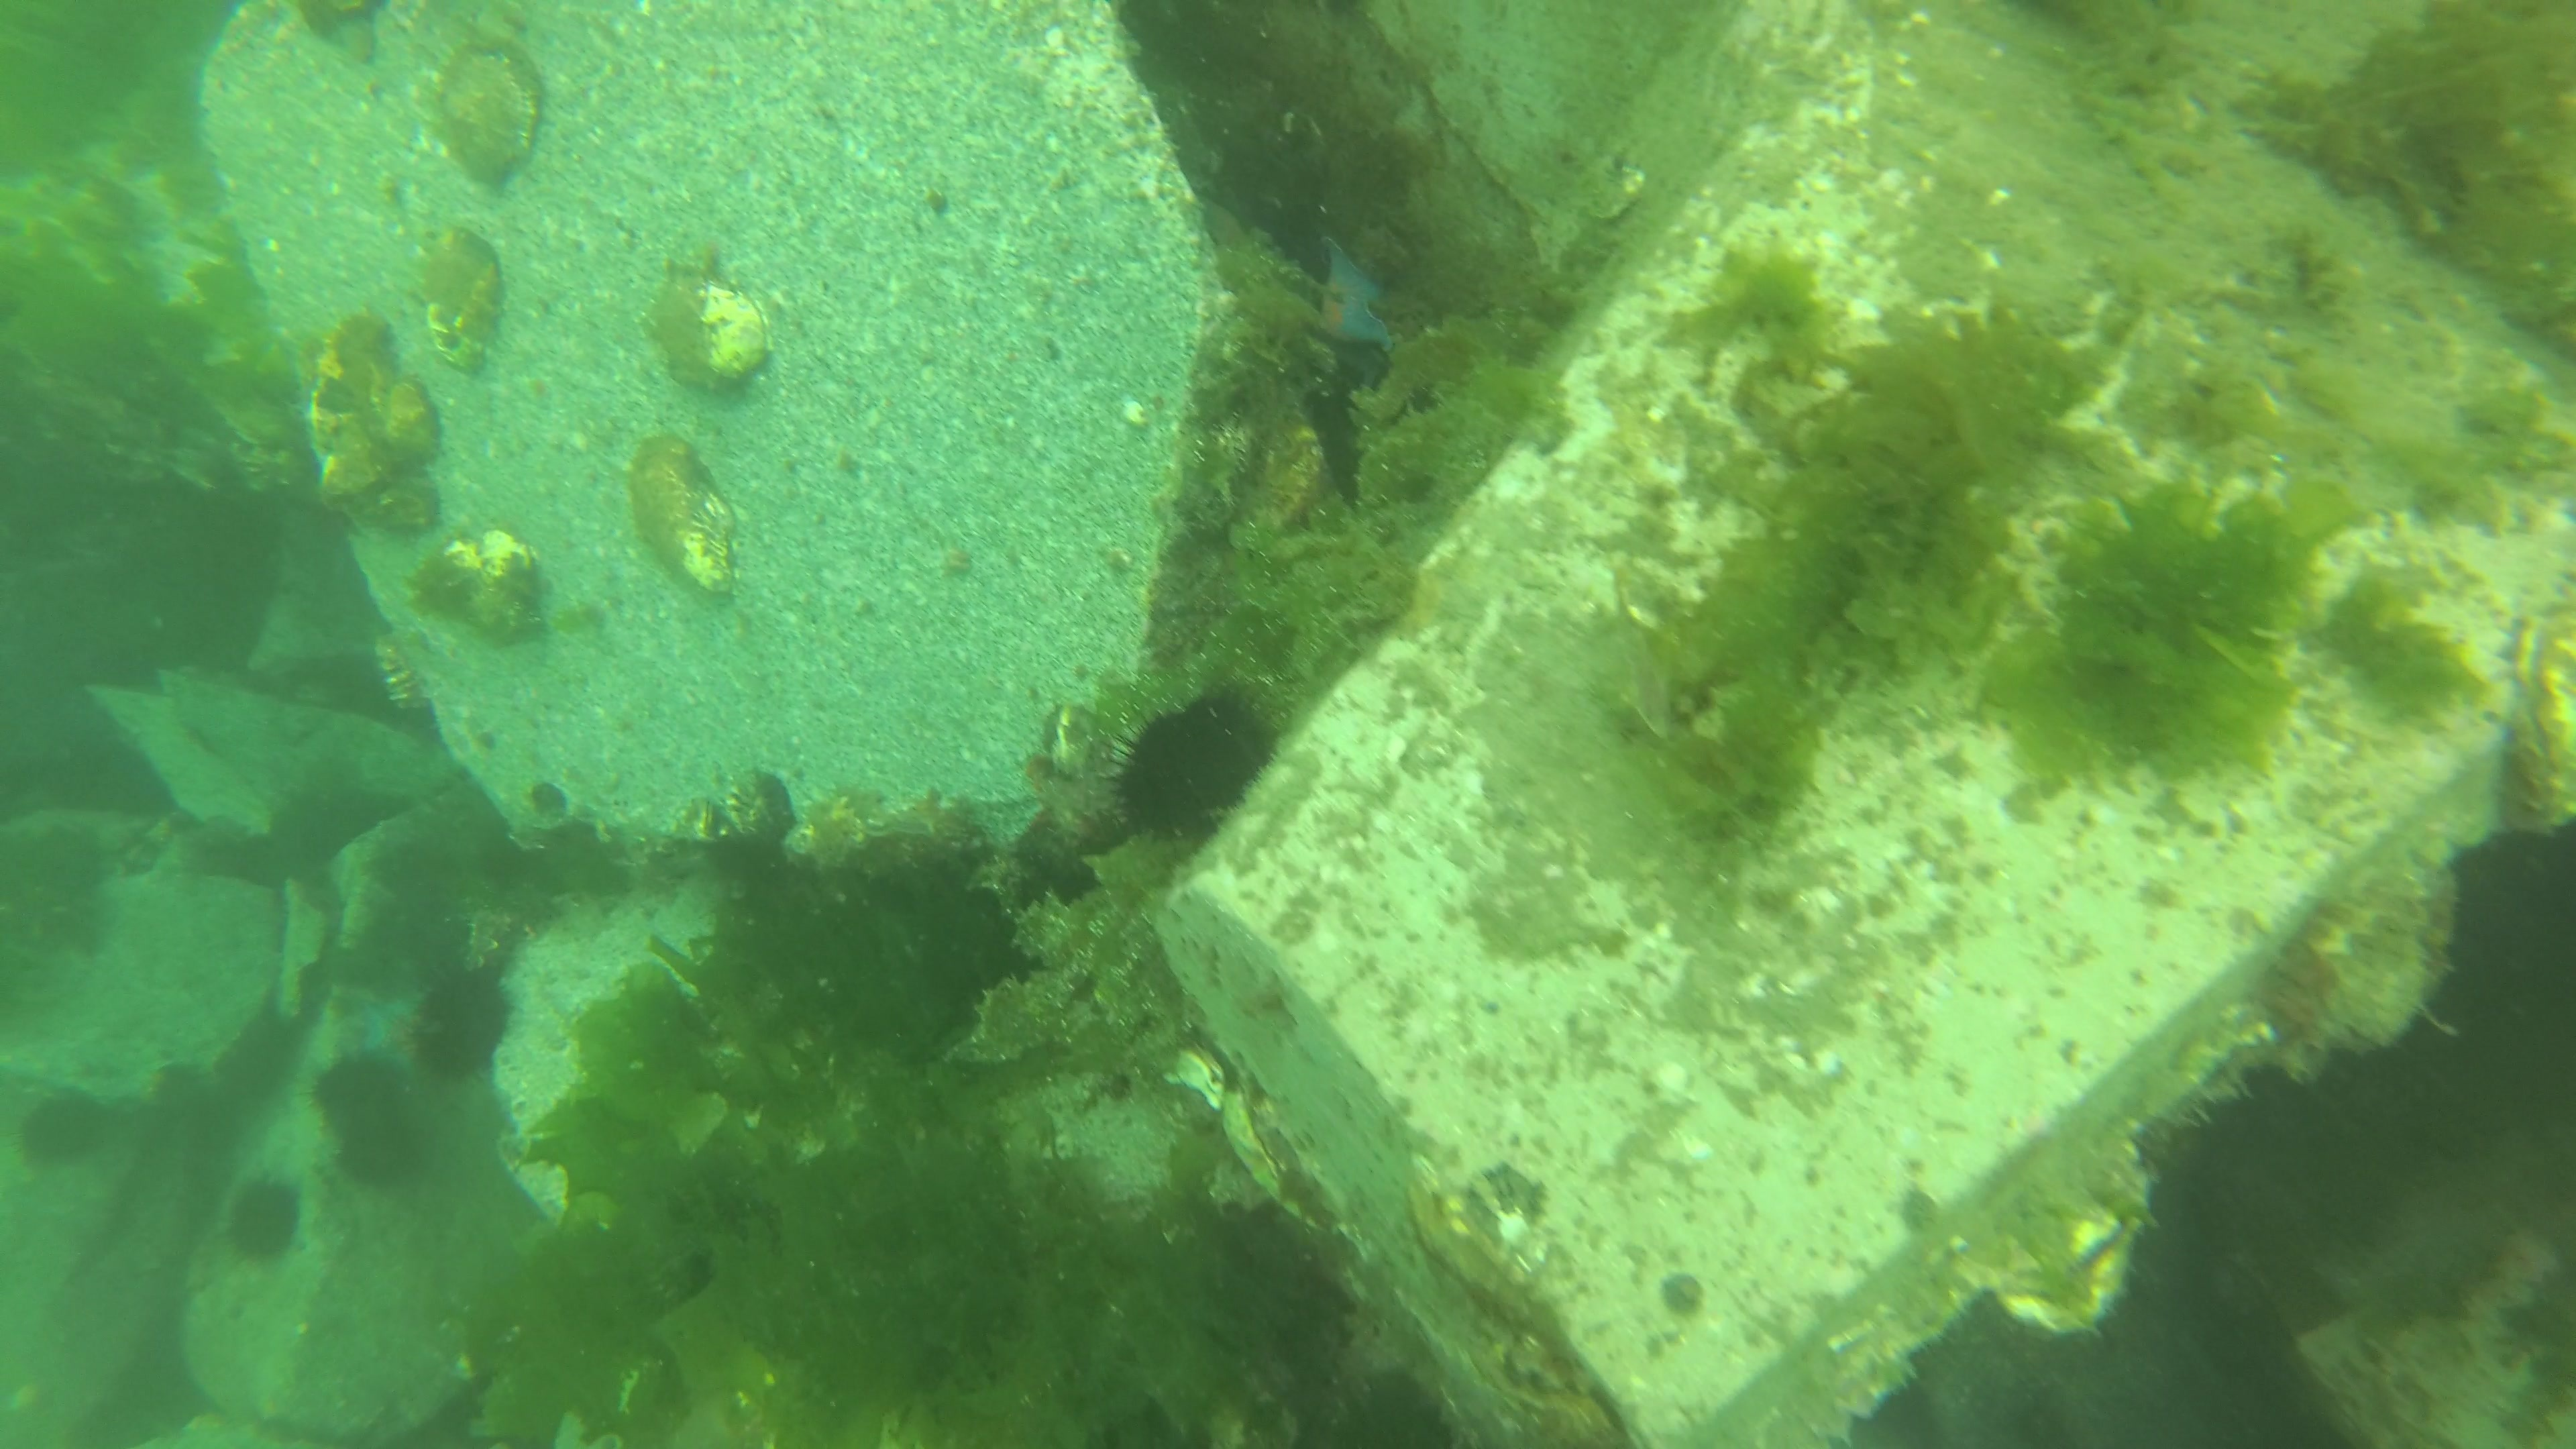echinus: (1097, 679, 1277, 847), (303, 1058, 430, 1182), (412, 966, 510, 1085), (18, 1083, 115, 1177), (219, 1177, 308, 1263)
starfish: (1304, 232, 1394, 368)
